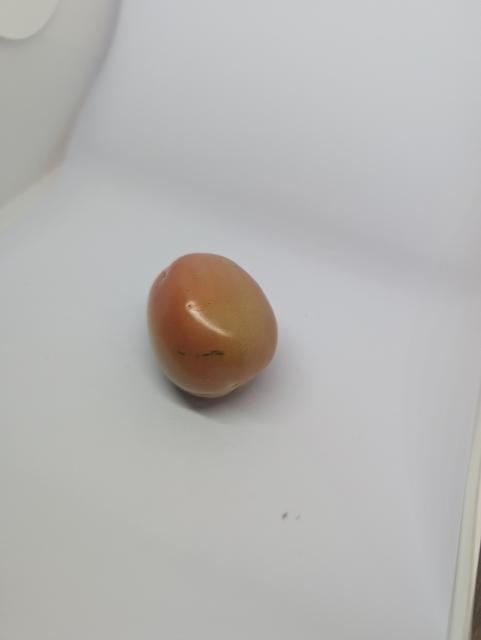turning: (135, 248, 292, 409)
